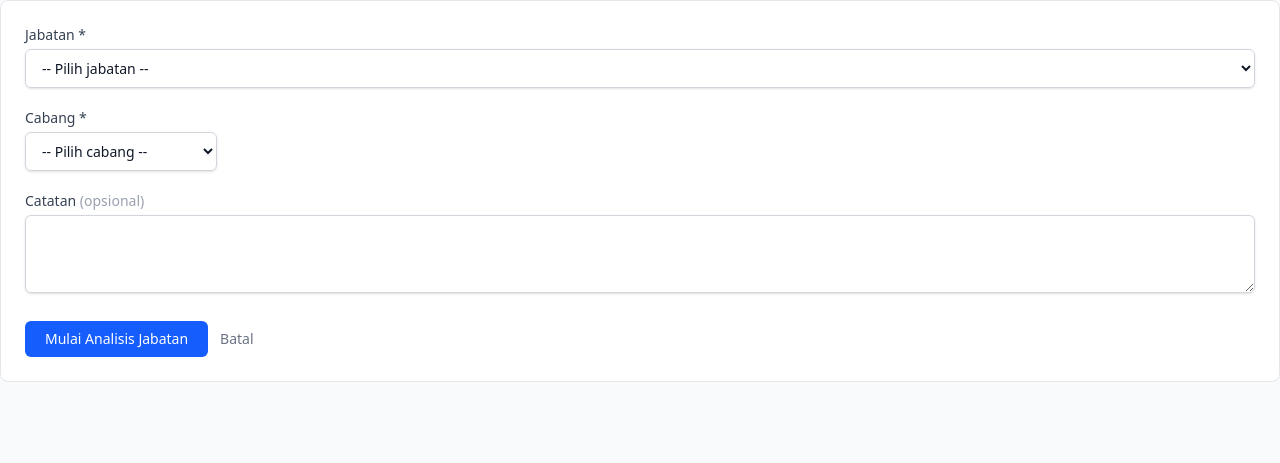
Scenario: TiSesiForm — notifikasi kegagalan (regresi 026/017) › kegagalan 5xx tampil di toast dan error inline
Select "Satpam" in the dropdown labelled "Jabatan *" at (640, 68), box [25,49,1255,88]
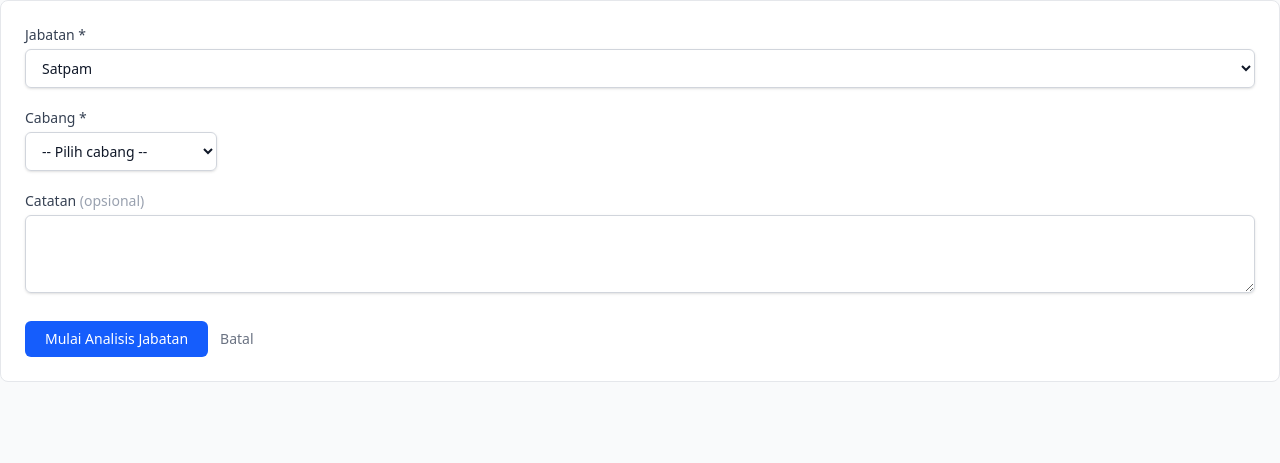
Select "Bandung" in the dropdown labelled "Cabang *" at (121, 152), box [25,132,217,171]
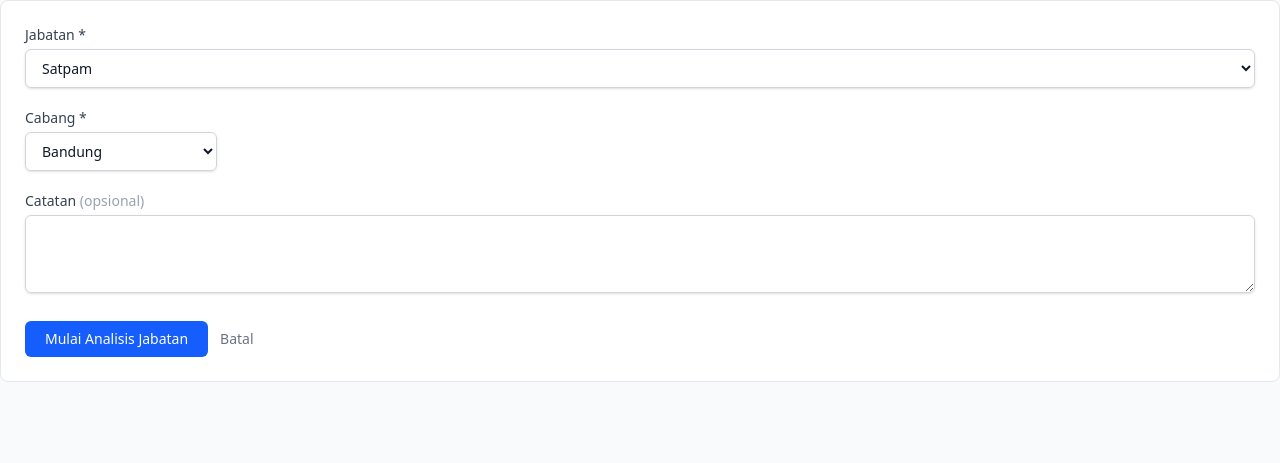
Click the button "Mulai Analisis Jabatan".
click(117, 339)  # box [25,321,208,357]
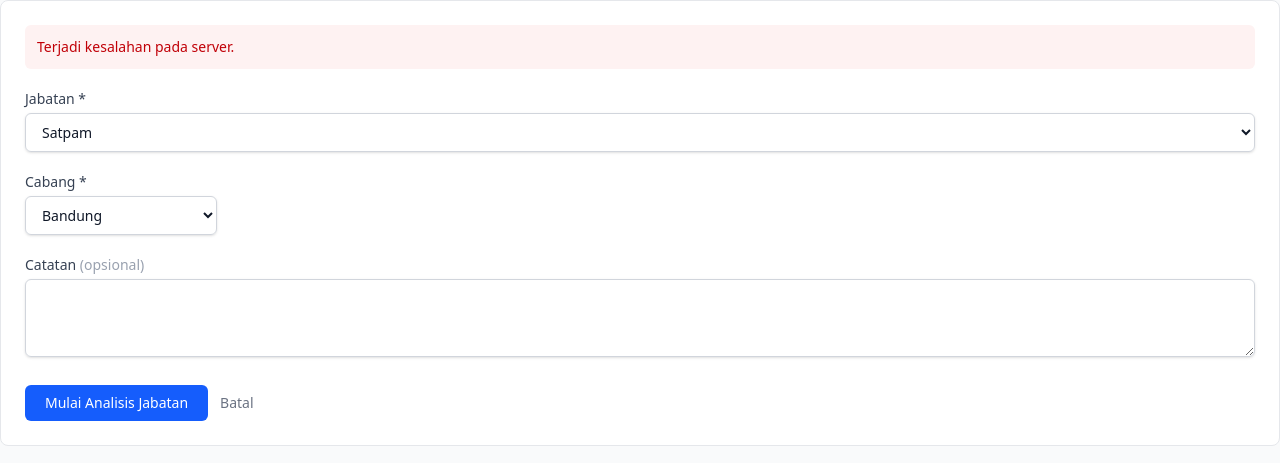
Expected: the text "Terjadi kesalahan pada server." is shown, [25,25,1255,69]
